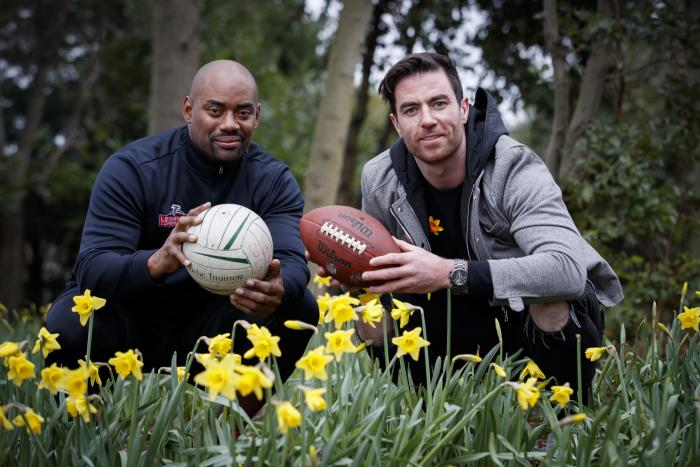ball: (182, 202, 273, 298)
player: (98, 51, 301, 400), (370, 58, 598, 342)
